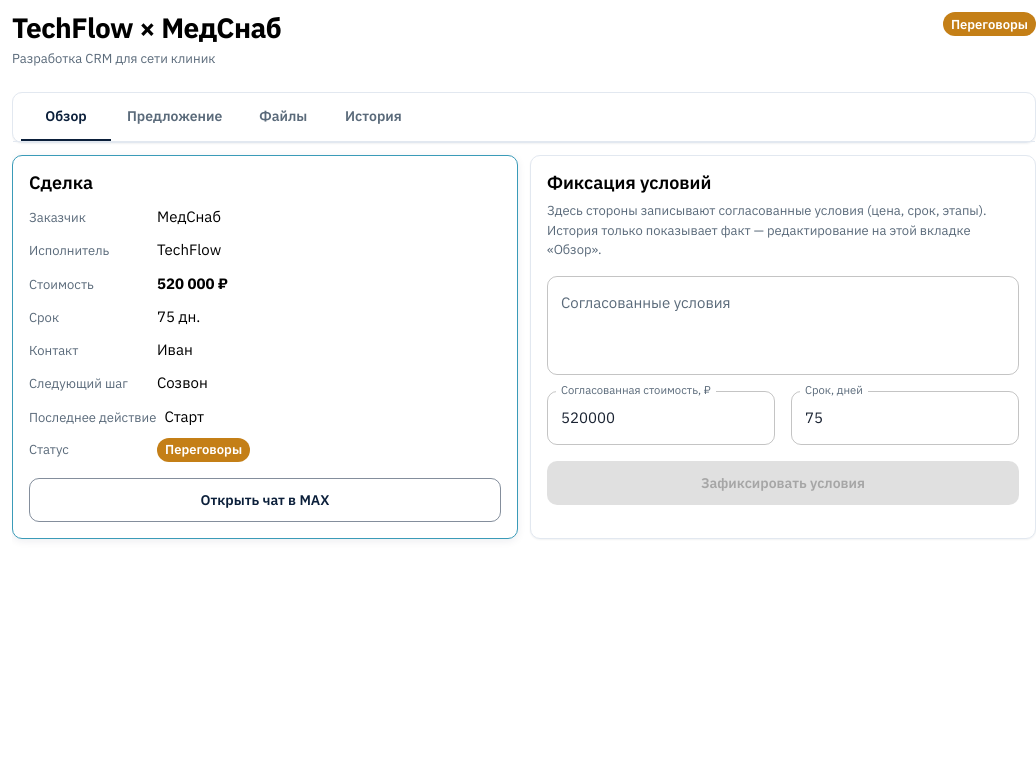
Test: DealRoom timeline › shows upload control on Files tab
Click the tab "Файлы" at coordinates (283, 117), box [238,93,328,141]
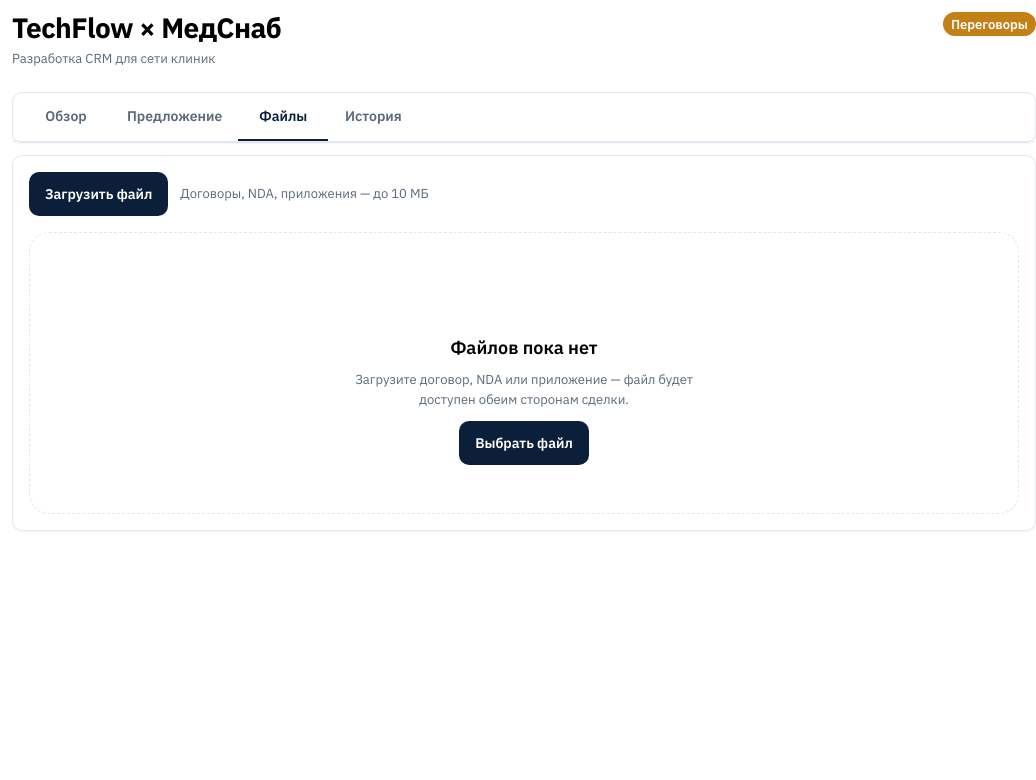
Now the button "Загрузить файл" is shown, box [29,172,168,216]
Now the button "Выбрать файл" is shown, box [459,421,589,465]
